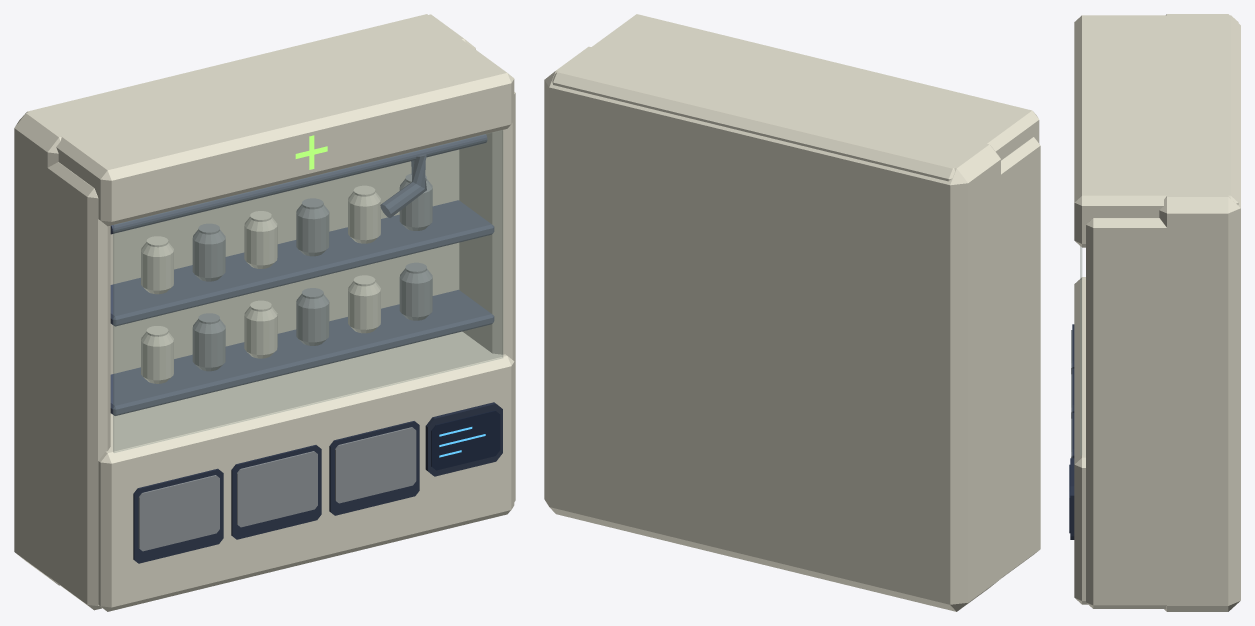
Rendered from bw_pharmacy_dispenser.glb.
The picture shows the model from 3 angles, left to right: view 1: azimuth 30°, elevation 25°; view 2: azimuth 150°, elevation 25°; view 3: azimuth 270°, elevation 25°; orthographic projection. The views are drawn at different scales.
Parts seen in each view (by area): view 1: cabinet, window, feeder_rail, dose_cartridge.001, bezel, instrument_glass, feeder; view 2: cabinet; view 3: cabinet, bezel, window, dose_cartridge.001.
Part boxes in pixels (box(x1,y1,x2,y2)): cabinet: box(14, 14, 515, 611); window: box(113, 130, 502, 452); feeder_rail: box(110, 134, 494, 415); dose_cartridge.001: box(138, 174, 432, 551); bezel: box(133, 402, 502, 563); instrument_glass: box(431, 410, 500, 470); feeder: box(380, 154, 426, 217); cabinet: box(544, 14, 1040, 611); cabinet: box(1074, 14, 1240, 611); bezel: box(1070, 324, 1074, 539); window: box(1080, 246, 1081, 455); dose_cartridge.001: box(1071, 330, 1072, 458).
Size of the model in its own units: 2.4 by 2.4 by 0.9.
